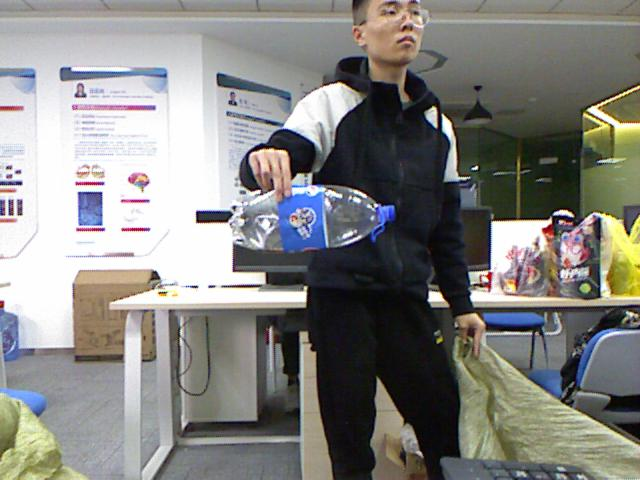cardboard paper: (74, 270, 158, 359)
plastic: (228, 184, 393, 250)
